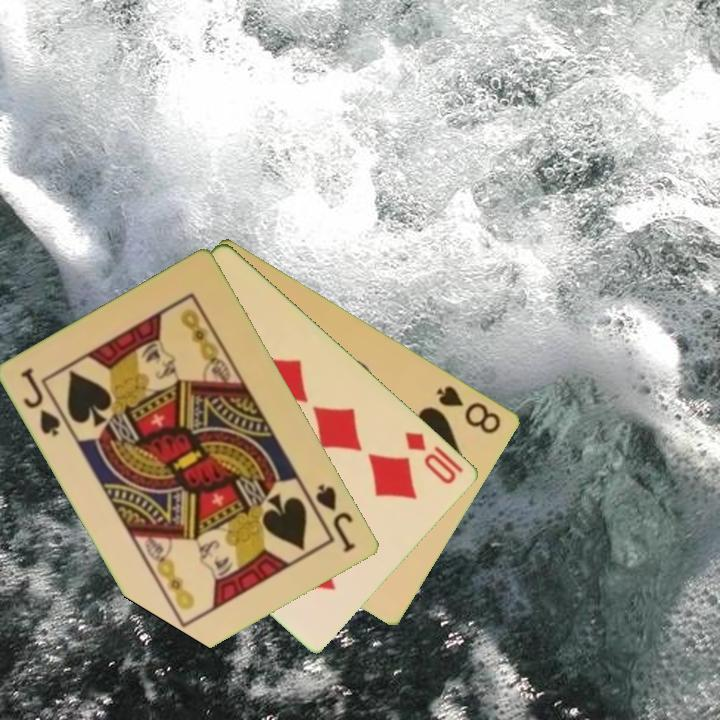10d: (402, 428, 460, 487)
8s: (433, 381, 505, 437)
Js: (312, 480, 359, 556), (18, 364, 65, 440)
